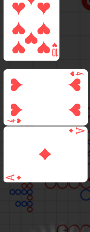10H: (51, 41, 59, 57)
4H: (7, 117, 23, 124)
AD: (5, 173, 23, 181)
